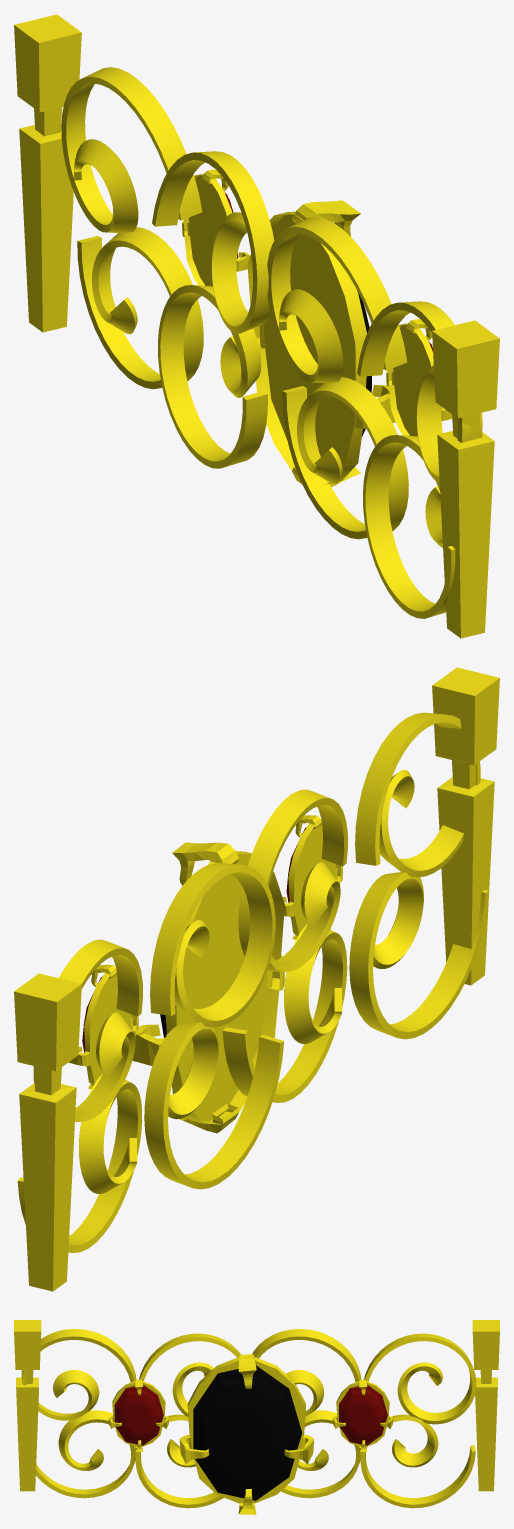
File: barrière.FBX
3 views of the same model, one above another, from view 1: azimuth 30°, elevation 25°; view 2: azimuth 150°, elevation 25°; view 3: azimuth 270°, elevation 25° (orthographic). The views are drawn at different scales.
Visible parts, largest first — view 1: Cylinder002; view 2: Cylinder002; view 3: Cylinder002.
Part boxes in pixels (x1,y1,x2,y2): Cylinder002: [14, 14, 499, 638]; Cylinder002: [14, 667, 499, 1291]; Cylinder002: [14, 1320, 499, 1514].
Bounding box in the file's own units: 105 × 274 × 706.
